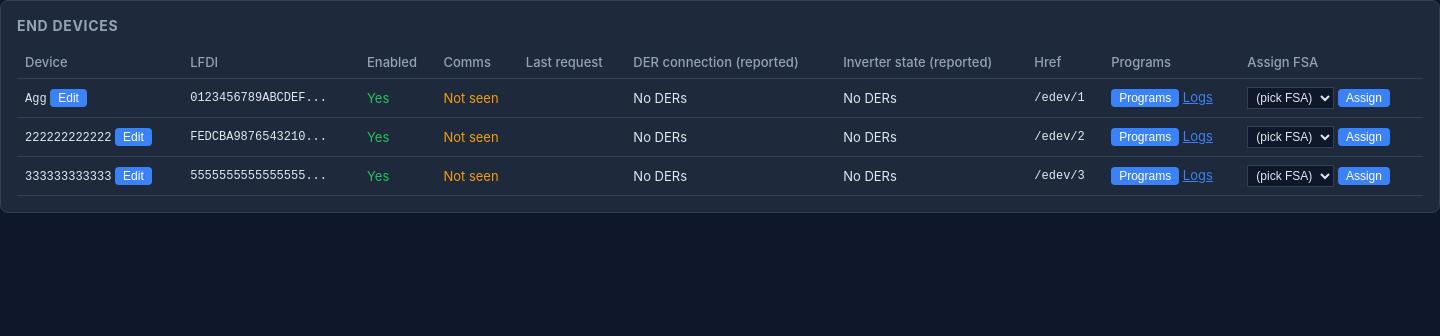
Scenario: Devices tab Edit kind and devices › shows the server 409 text and creates no pair when the kind is refused
The width and height of the screenshot is (1440, 336).
Click the button "Edit" next to "Agg" at (69, 98), box 50,89 -> 87,107
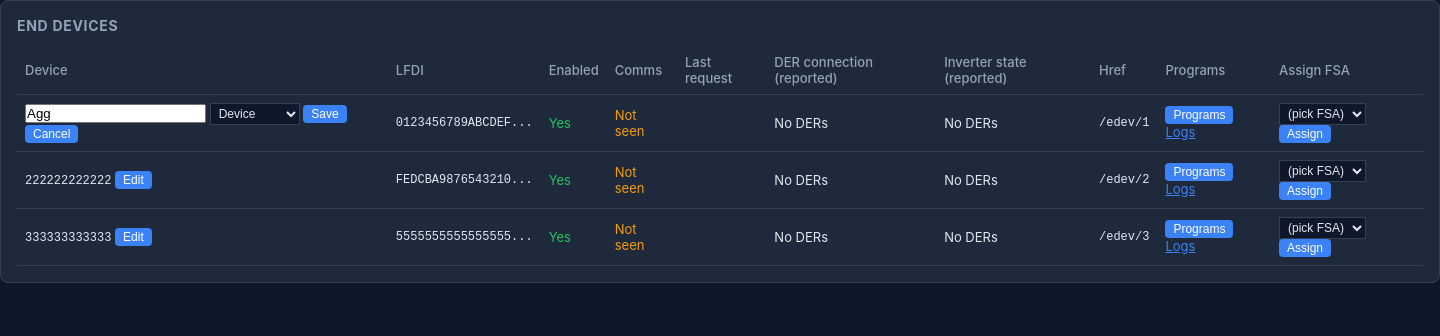
Select "Aggregator" in the dropdown with test id "device-kind-select" at (255, 114), box 210,103 -> 300,125
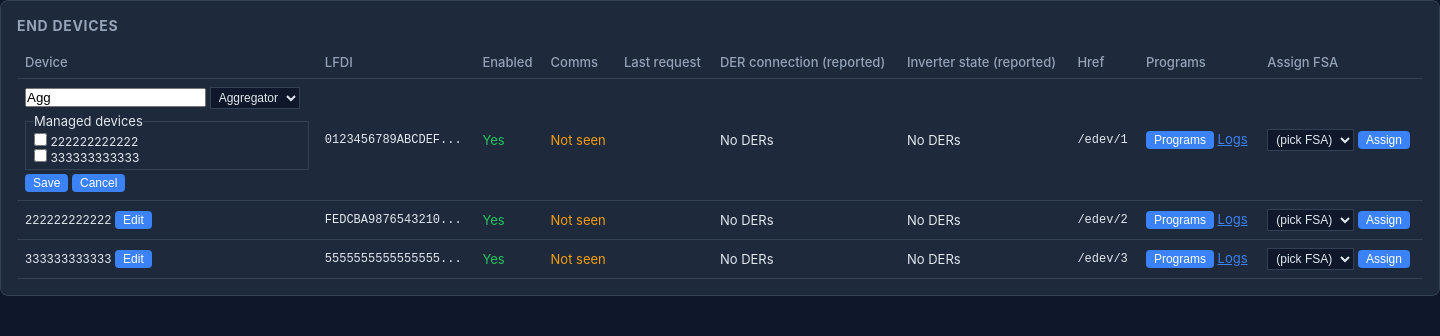
Now the number of checkboxes with test id "device-picker-option" is 2
Click the checkbox labelled "222222222222" at (40, 140), box 34,133 -> 47,146
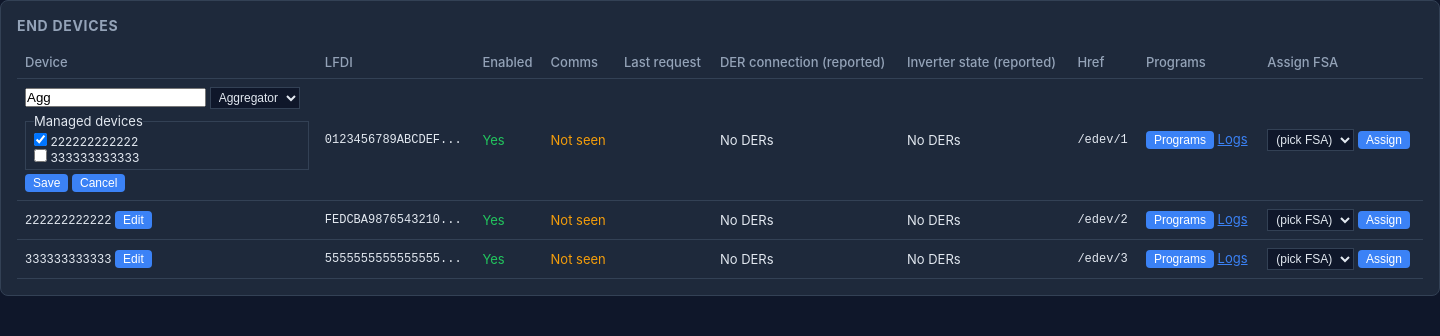
Click the button with test id "device-name-save" at (47, 183), box 25,174 -> 68,192
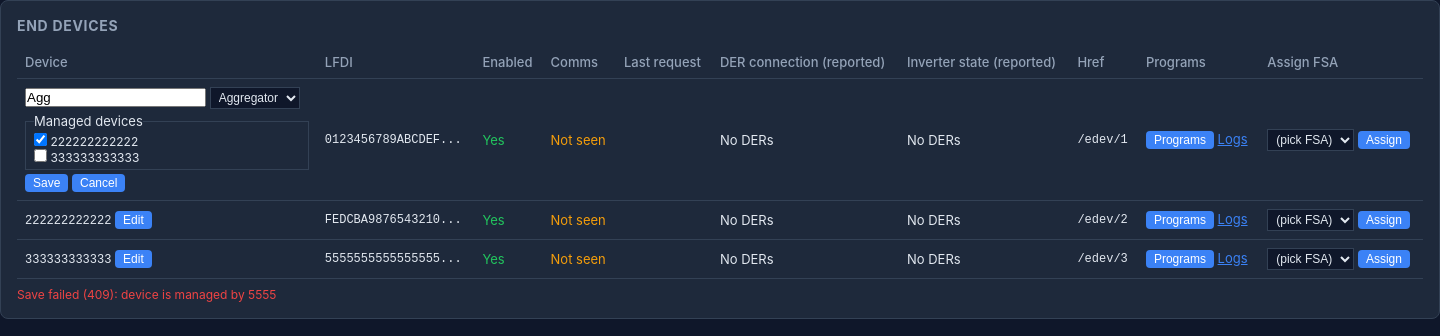
Now the message with test id "device-rename-error" reads "Save failed (409): device is managed by 5555", box 17,287 -> 276,302
